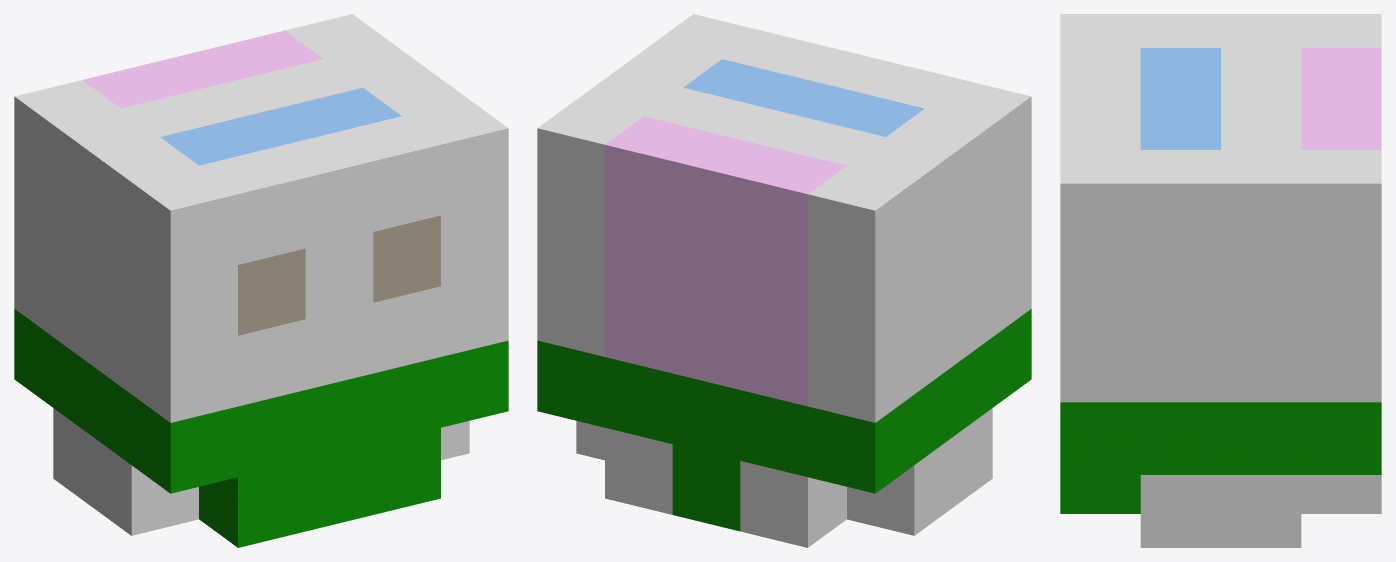
File: tronco.obj
The picture shows the model from 3 angles, left to right: view 1: azimuth 30°, elevation 25°; view 2: azimuth 150°, elevation 25°; view 3: azimuth 270°, elevation 25°; orthographic projection. The views are drawn at different scales.
Size of the model in its own units: 0.5 by 0.5 by 0.4.
1 material, 1 textured.
